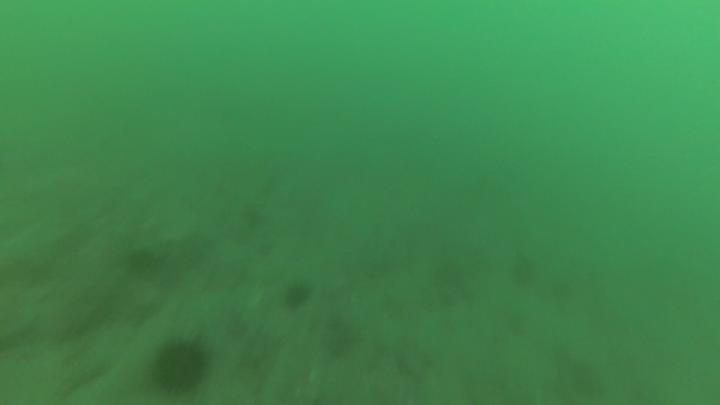echinus: (146, 333, 214, 399), (318, 313, 362, 363), (123, 245, 165, 279), (507, 252, 540, 291), (280, 279, 314, 313)
